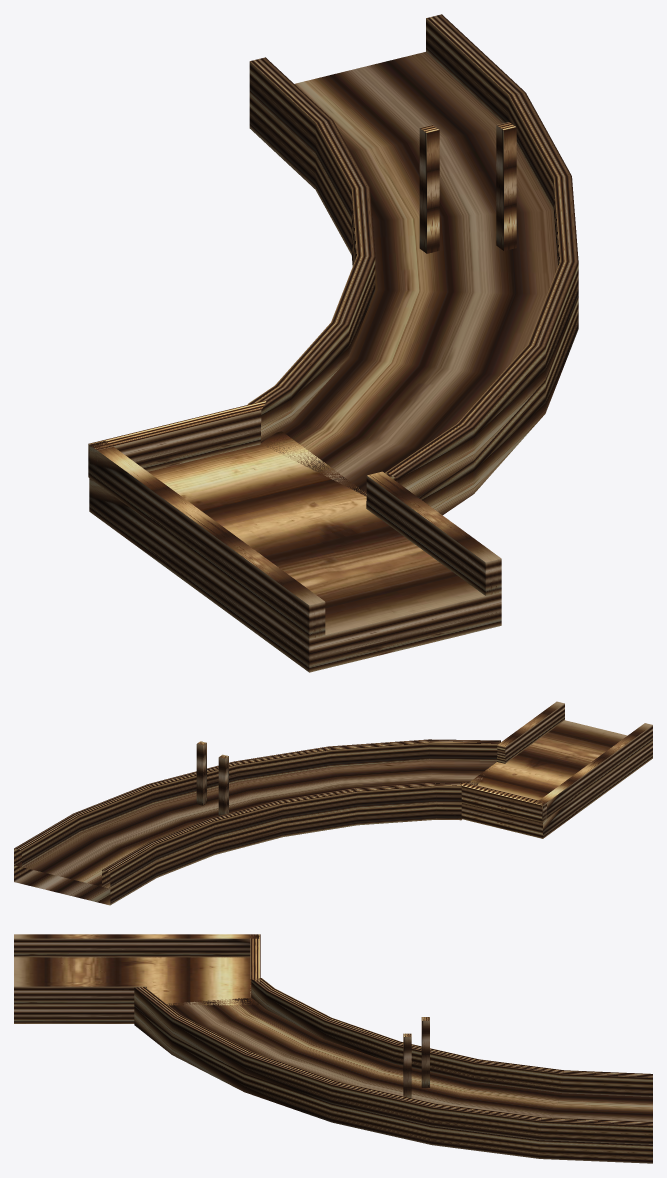
Rendered from L - Window End.obj.
The picture shows the model from 3 angles, top to bottom: view 1: azimuth 30°, elevation 25°; view 2: azimuth 150°, elevation 25°; view 3: azimuth 270°, elevation 25°; orthographic projection. The views are drawn at different scales.
Visible parts, largest first — view 1: polySurface10; view 2: polySurface10; view 3: polySurface10.
Boxes of the visible parts, left/top/right/bottom form: polySurface10: left=88, top=14, right=578, bottom=672; polySurface10: left=14, top=701, right=652, bottom=905; polySurface10: left=14, top=934, right=652, bottom=1163.
Bounding box in the file's own units: 1540 × 322 × 2166.
